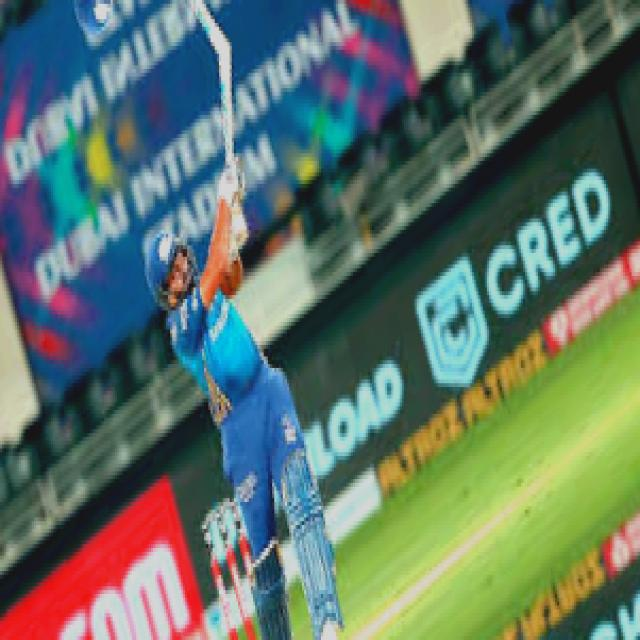toe: (213, 46, 239, 70)
